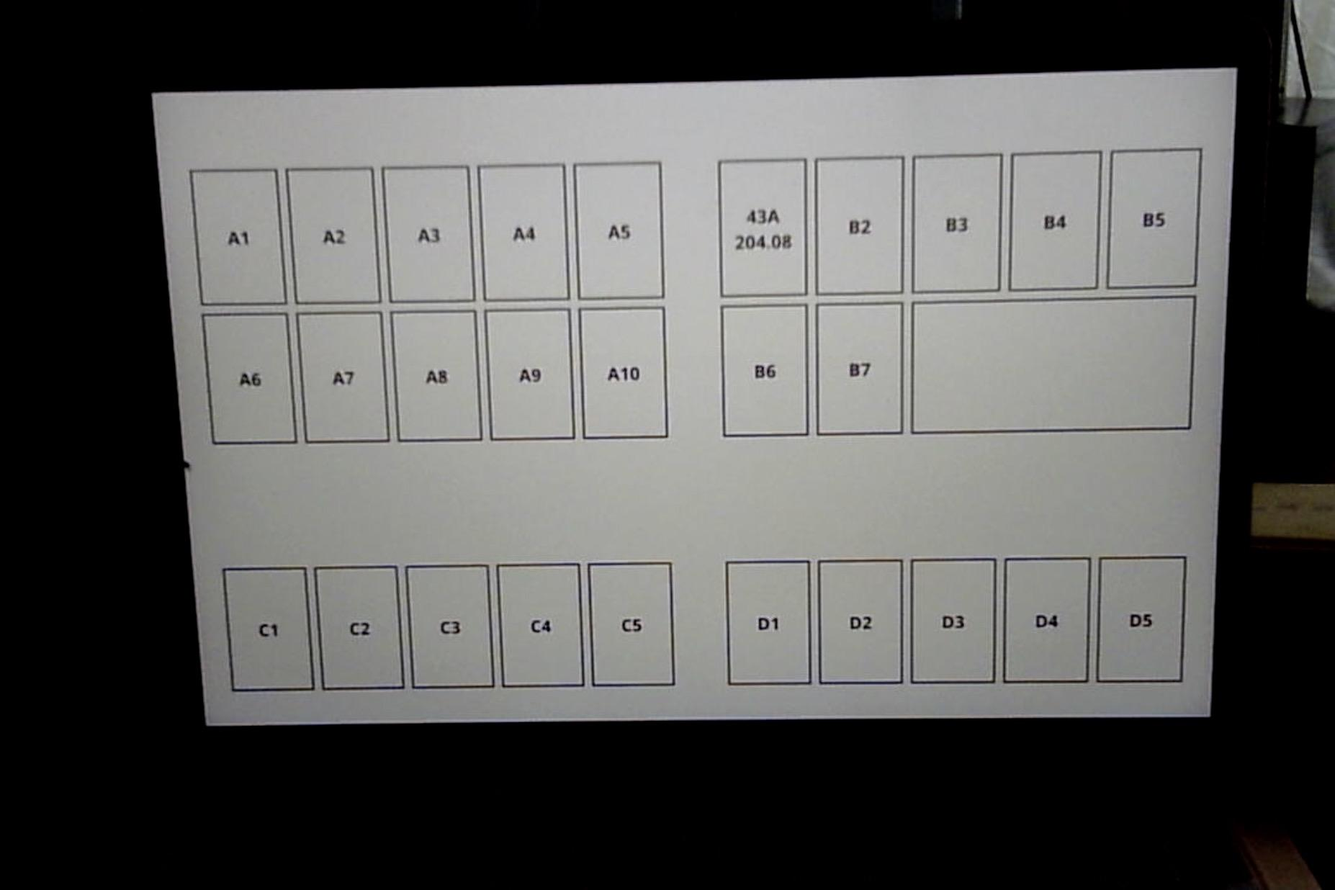parking space: (1109, 150, 1200, 288), (192, 171, 284, 304), (287, 168, 377, 302), (1011, 152, 1099, 289), (384, 166, 472, 302), (202, 316, 295, 444), (913, 156, 1000, 292), (481, 165, 568, 300), (575, 163, 661, 299), (720, 159, 806, 295), (817, 157, 902, 294), (298, 313, 387, 442)
